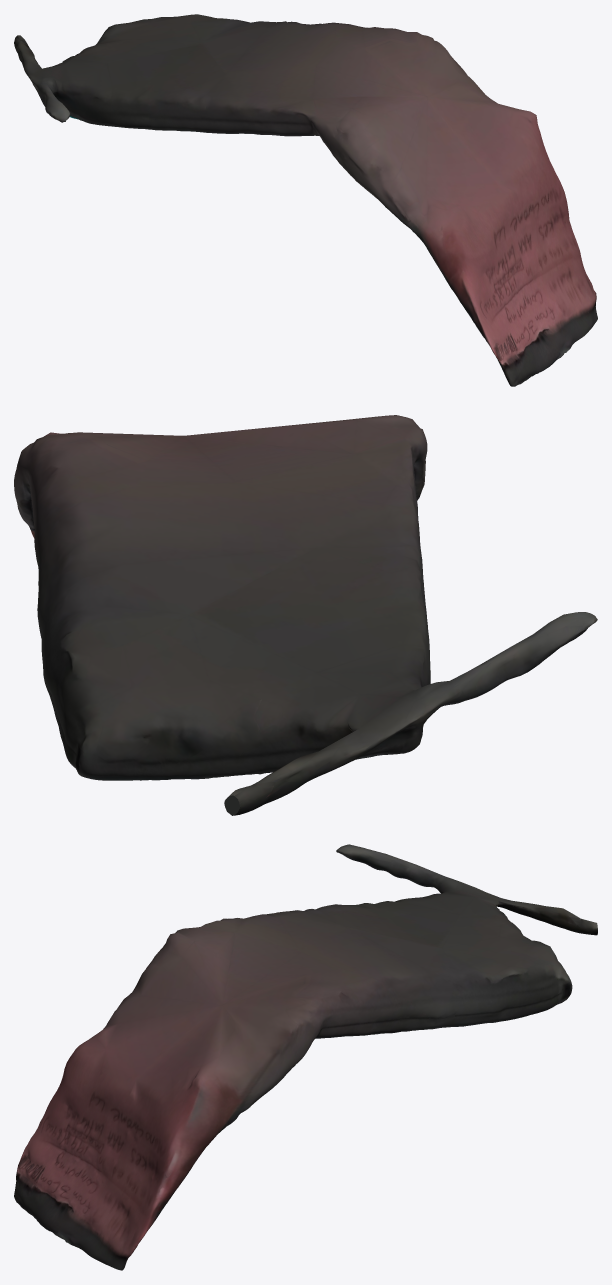
The model's file is palm_3.glb.
3 renders of one model, top to bottom at view 1: azimuth 30°, elevation 25°; view 2: azimuth 150°, elevation 25°; view 3: azimuth 270°, elevation 25°, orthographic. The views are drawn at different scales.
Visible parts, largest first — view 1: 3DModel; view 2: 3DModel; view 3: 3DModel.
Boxes of the visible parts, <box> form: 3DModel: <box>14,14,597,386</box>; 3DModel: <box>14,415,597,815</box>; 3DModel: <box>14,844,597,1270</box>.
Bounding box in the file's own units: 1.18 × 0.6163 × 1.4.
Materials: 1 (1 with a texture image).
